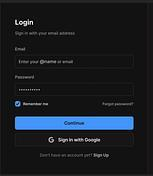button: (16, 118, 134, 131), (16, 134, 134, 147)
checkbox: (16, 101, 22, 109)
input: (17, 84, 132, 95), (17, 57, 134, 67)
label: (13, 74, 38, 81), (23, 102, 51, 108), (14, 47, 28, 53)
